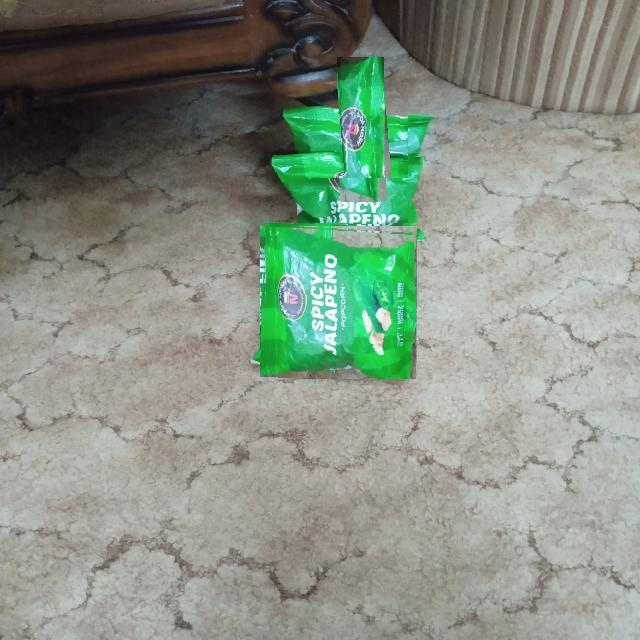Plastic: (261, 224, 416, 379), (275, 157, 424, 225), (312, 82, 408, 178)
